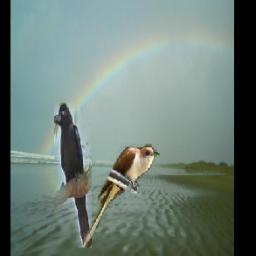Crow: (53, 103, 91, 248)
Cuckoo: (82, 145, 161, 250)
